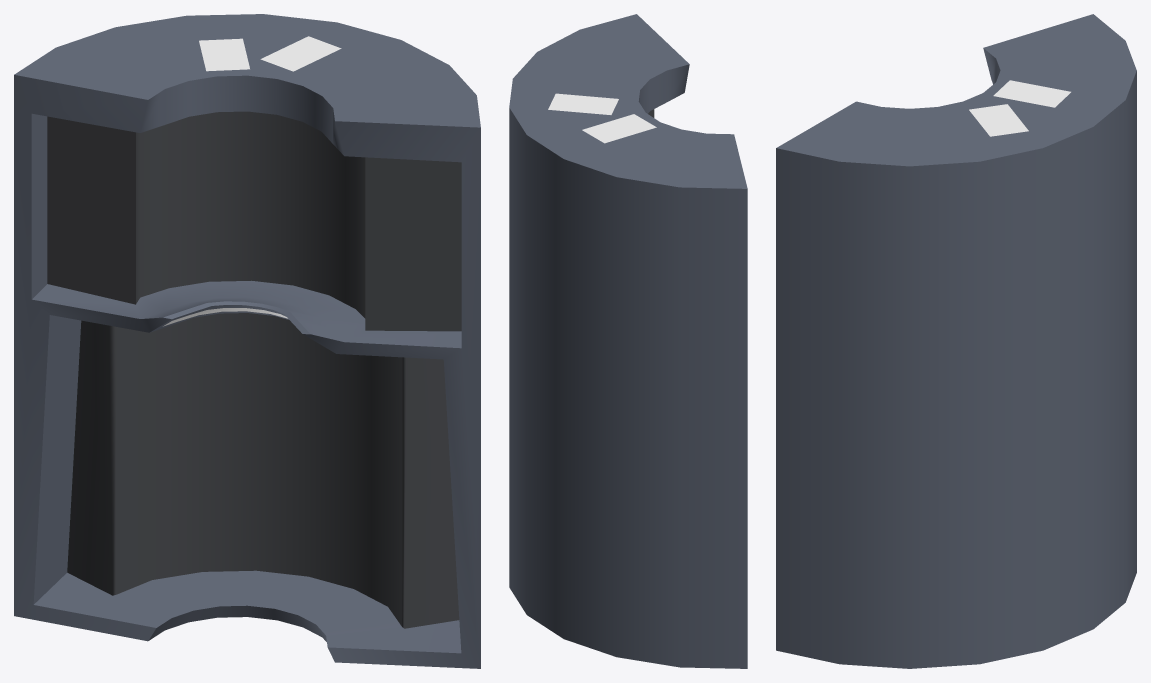
Rendered from Klax_Desk_01.fbx.
The picture shows the model from 3 angles, left to right: view 1: azimuth 30°, elevation 25°; view 2: azimuth 150°, elevation 25°; view 3: azimuth 270°, elevation 25°; orthographic projection. The views are drawn at different scales.
Parts seen in each view (by area): view 1: Klax_Desk_01; view 2: Klax_Desk_01; view 3: Klax_Desk_01.
Boxes of the visible parts, box(x1,y1,x2,y2) form: Klax_Desk_01: box(14, 14, 480, 668); Klax_Desk_01: box(509, 14, 747, 668); Klax_Desk_01: box(776, 14, 1136, 668).
Size of the model in its own units: 5.32 by 8.19 by 5.32.
